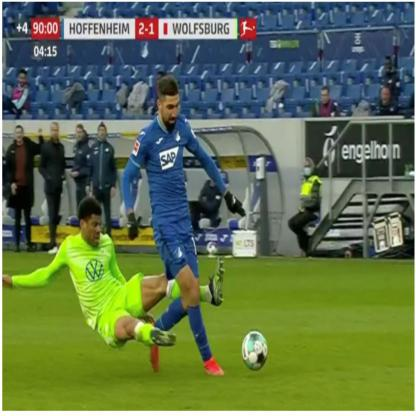Fall_Down: (1, 198, 226, 354)
